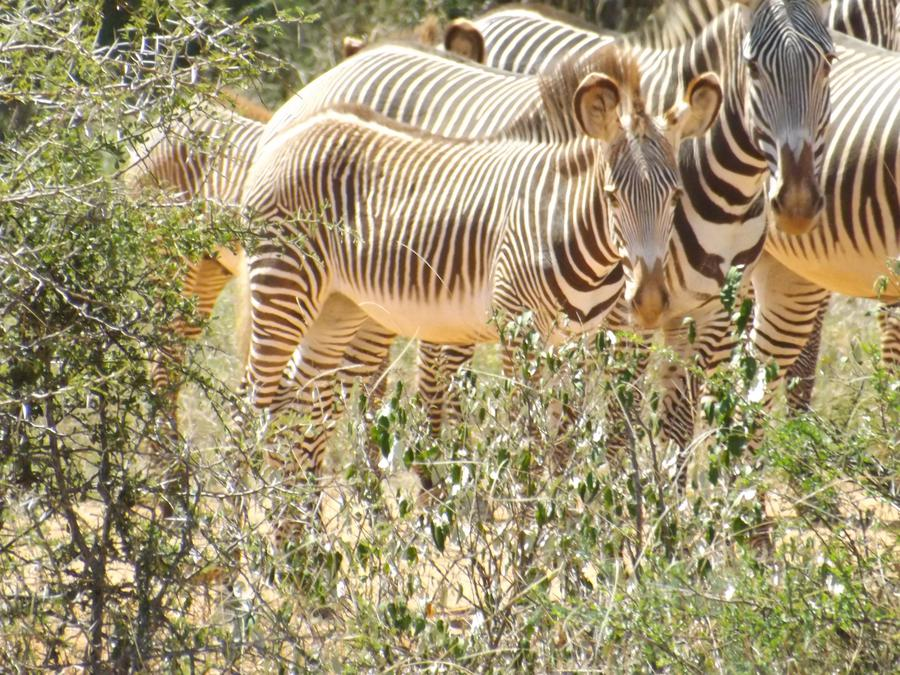zebra_grevys: (253, 109, 564, 341)
